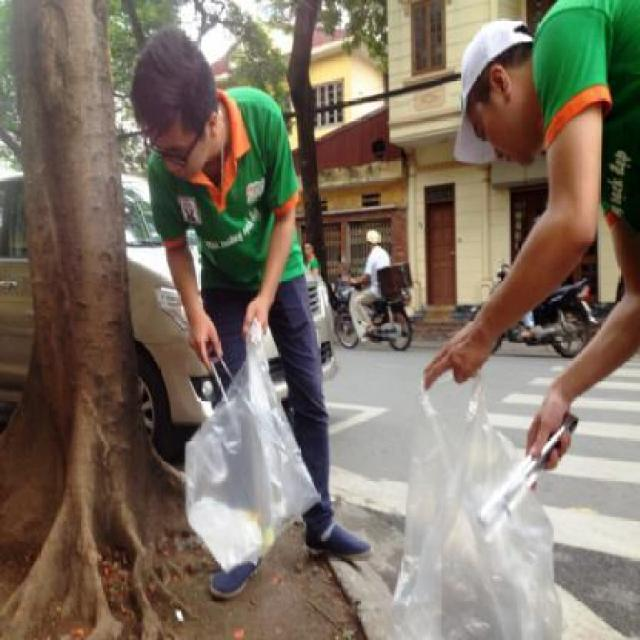plastic bag: (389, 321, 583, 637), (174, 317, 352, 588)
